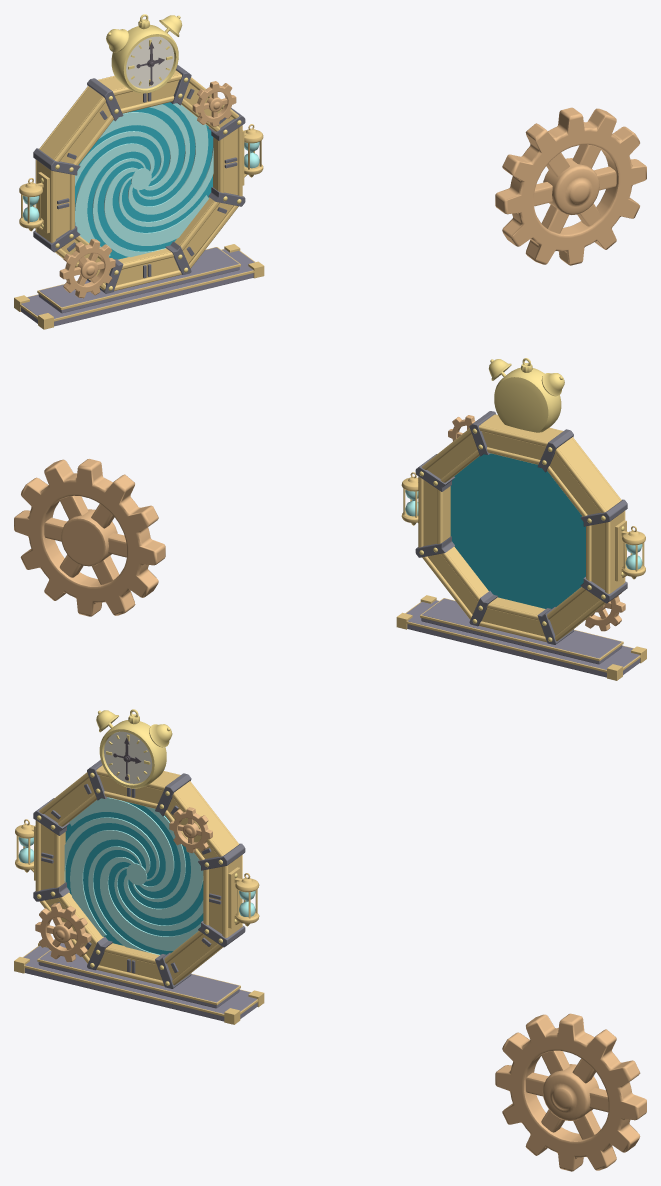
The model's file is WorldPortal.fbx.
The picture shows the model from 3 angles, top to bottom: view 1: azimuth 30°, elevation 25°; view 2: azimuth 150°, elevation 25°; view 3: azimuth 330°, elevation 25°; orthographic projection.
Visible parts, largest first — view 1: HubGear, PortalFrame, PortalSwirl, PortalVortex, PortalBase, PortalBands, PortalClockRim, PortalBaseTrim, PortalGearA, PortalLampFrames, PortalClock, PortalGearB (+2 smaller); view 2: PortalFrame, PortalVortex, HubGear, PortalBase, PortalClockRim, PortalBands, PortalBaseTrim, PortalLampFrames, PortalGearA, PortalLampGlow; view 3: HubGear, PortalFrame, PortalSwirl, PortalVortex, PortalBase, PortalBands, PortalClockRim, PortalGearA, PortalBaseTrim, PortalLampFrames, PortalClock, PortalGearB (+1 smaller).
Boxes of the visible parts, x1,y1,x2,y2 form: HubGear: (495, 107, 646, 265); PortalFrame: (35, 70, 242, 290); PortalSwirl: (75, 103, 213, 257); PortalVortex: (75, 102, 212, 259); PortalBase: (20, 247, 254, 326); PortalBands: (33, 64, 245, 293); PortalClockRim: (106, 14, 182, 93); PortalBaseTrim: (14, 244, 264, 329); PortalGearA: (59, 239, 115, 298); PortalLampFrames: (19, 124, 263, 233); PortalClock: (126, 36, 174, 88); PortalGearB: (192, 81, 236, 126); PortalFrame: (418, 414, 625, 642); PortalVortex: (450, 453, 585, 608); HubGear: (14, 459, 165, 616); PortalBase: (406, 598, 640, 677); PortalClockRim: (488, 358, 564, 432); PortalBands: (415, 411, 627, 644); PortalBaseTrim: (396, 595, 646, 680); PortalLampFrames: (401, 472, 645, 581); PortalGearA: (585, 593, 625, 631); PortalLampGlow: (405, 490, 642, 569); HubGear: (495, 1013, 646, 1171); PortalFrame: (35, 765, 242, 986); PortalSwirl: (64, 797, 203, 955); PortalVortex: (65, 797, 203, 954); PortalBase: (23, 943, 257, 1021); PortalBands: (33, 760, 245, 988); PortalClockRim: (96, 709, 172, 788); PortalGearA: (35, 903, 91, 962); PortalBaseTrim: (14, 943, 264, 1024); PortalLampFrames: (15, 819, 259, 928); PortalClock: (104, 731, 152, 783); PortalGearB: (169, 807, 212, 853).
Bounding box in the file's own units: 4335 × 2365 × 370.
